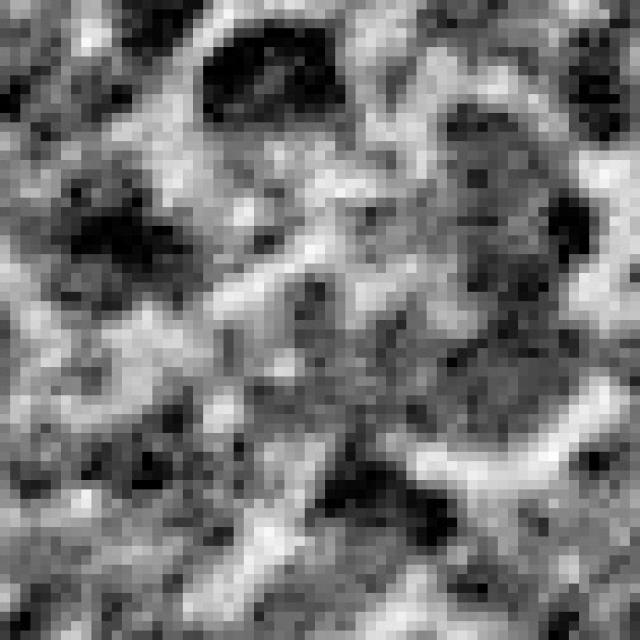inner: (199, 139, 476, 433)
lobe: (425, 103, 618, 305), (4, 157, 223, 329), (73, 379, 286, 551), (408, 311, 597, 451), (308, 447, 486, 560), (202, 8, 363, 132)
outer: (0, 0, 640, 617)
